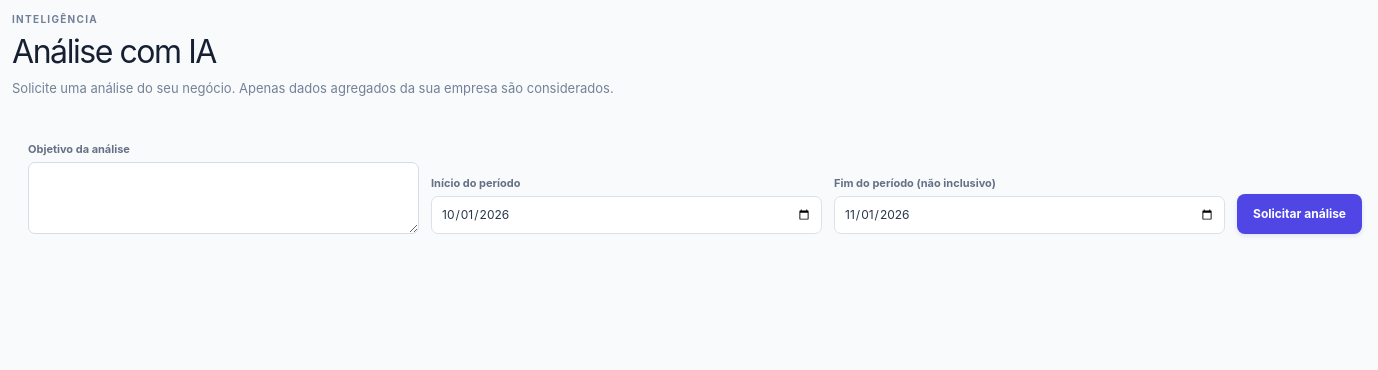
Test: Backoffice AIAnalysisPage › shows a safe error when the analysis provider refuses a request
Type "Entender o desempenho de vendas" into the text box labelled "Objetivo da análise".
click(224, 198); type("Entender o desempenho de vendas")  # box [28,162,419,234]
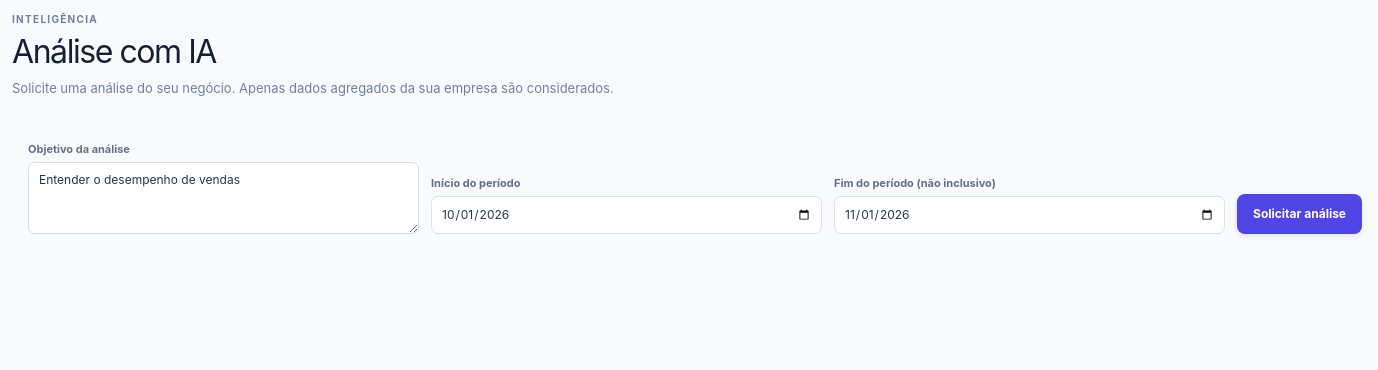
Type "2030-02-01" into the date field labelled "Início do período".
click(626, 215); type("2030-02-01")  # box [431,196,822,234]
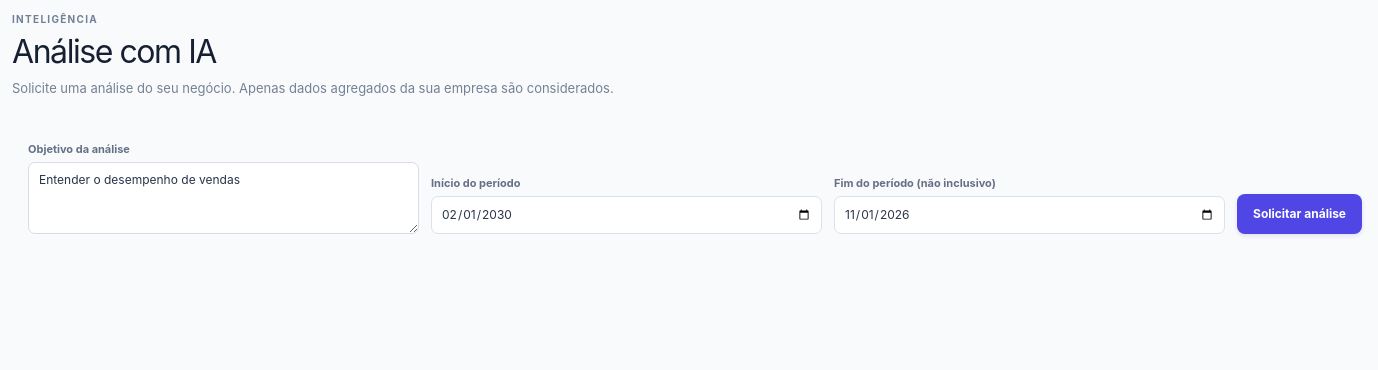
Type "2030-03-01" into the date field labelled "Fim do período (não inclusivo)".
click(1030, 215); type("2030-03-01")  # box [834,196,1225,234]
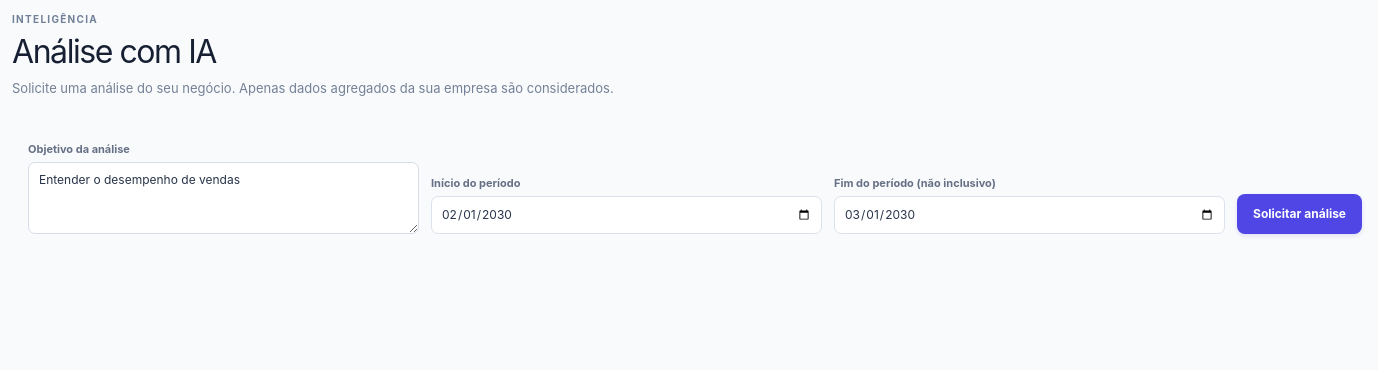
Click the button "Solicitar análise".
click(1300, 214)  # box [1237,194,1362,234]
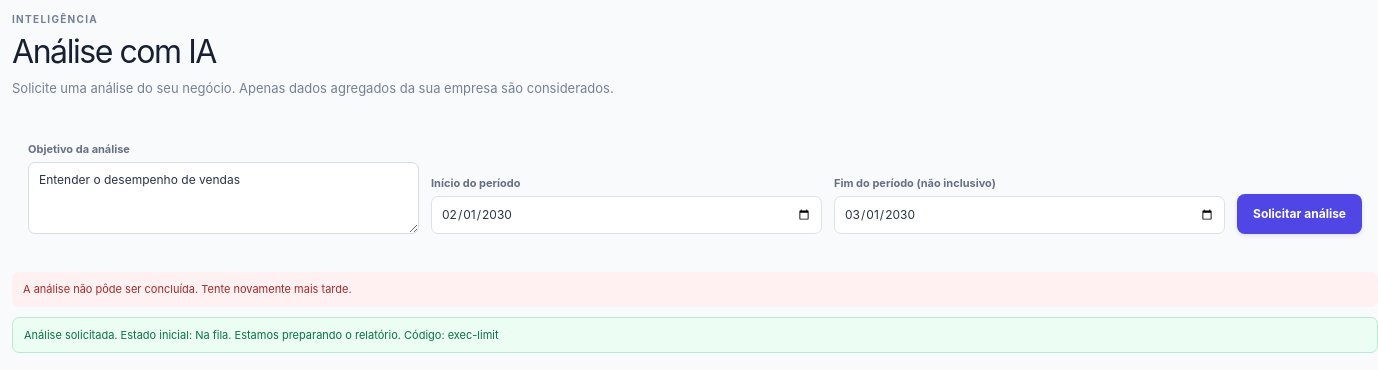
Now the message "A análise não pôde ser concluída. Tente novamente mais tarde." is shown, box [12,272,1377,307]
